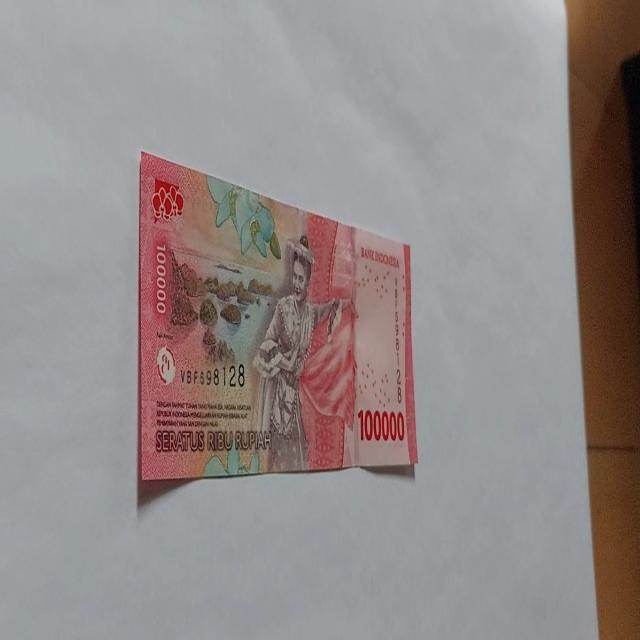seratus ribu rupiah: (138, 149, 418, 489), (250, 234, 357, 473)
